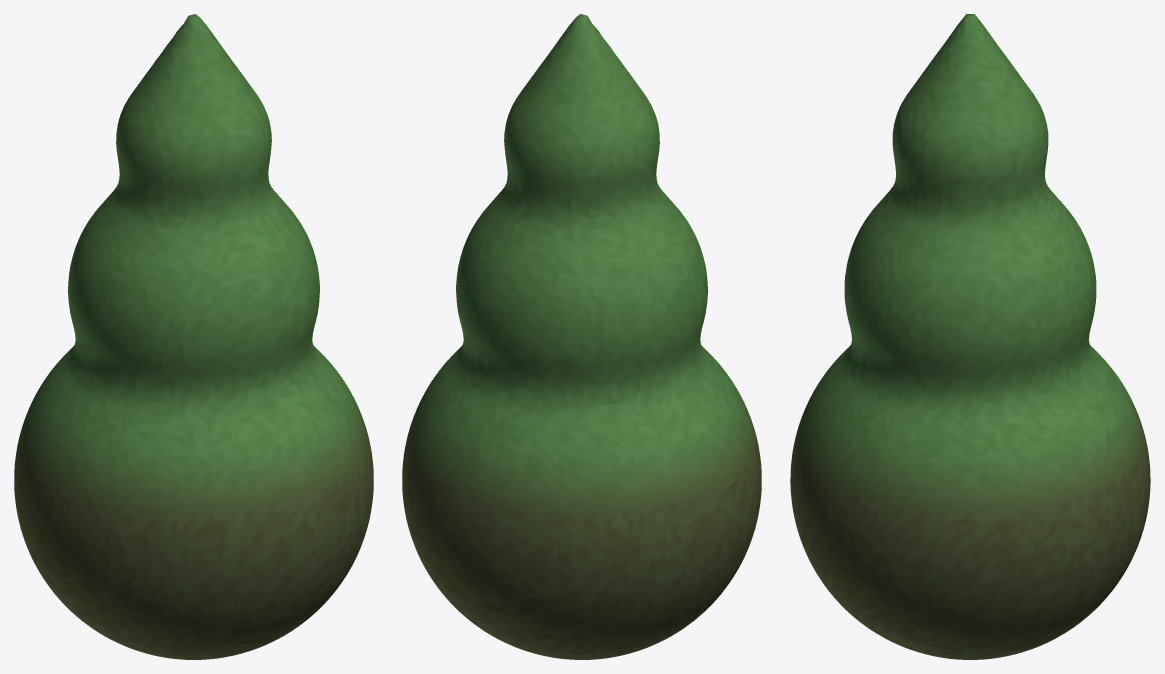
File: pine3.glb
The picture shows the model from 3 angles, left to right: view 1: azimuth 30°, elevation 25°; view 2: azimuth 150°, elevation 25°; view 3: azimuth 270°, elevation 25°; orthographic projection.
Parts seen in each view (by area): view 1: pine3; view 2: pine3; view 3: pine3.
Part boxes in pixels (bbox=[...]): pine3: bbox=[14, 14, 373, 659]; pine3: bbox=[402, 14, 761, 659]; pine3: bbox=[790, 14, 1150, 659].
Size of the model in its own units: 1.2 by 2.31 by 1.2.
